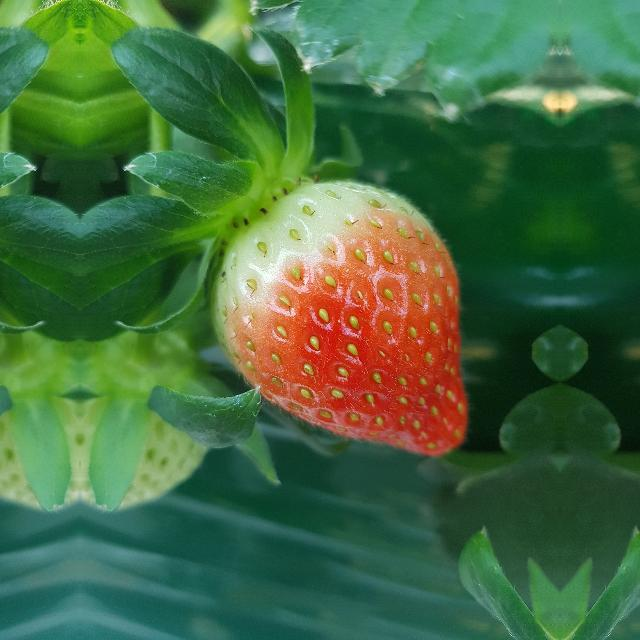Health_75: (209, 180, 469, 458)
